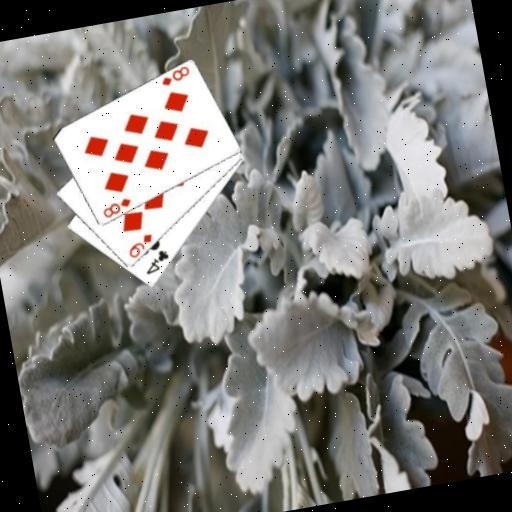4C: (139, 246, 173, 277)
8D: (98, 194, 135, 220), (156, 62, 193, 88)
9D: (122, 230, 156, 260)
